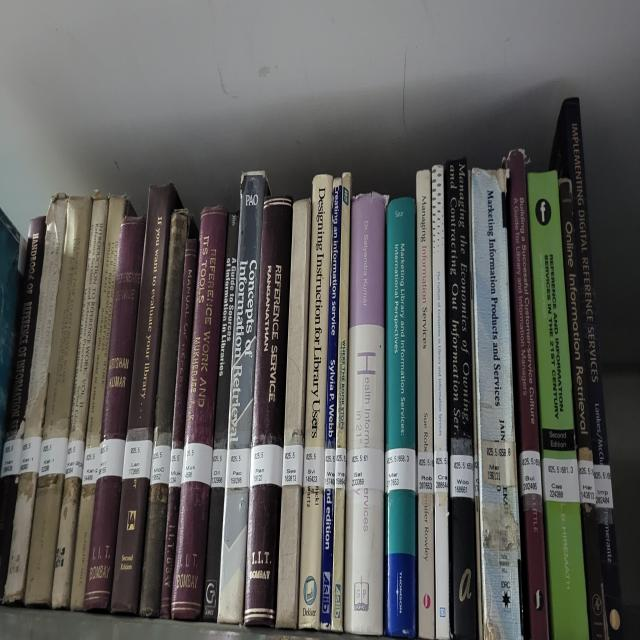Book: (550, 97, 622, 639), (111, 184, 180, 614), (528, 170, 589, 639), (25, 198, 92, 606), (70, 198, 134, 609), (4, 195, 68, 603), (84, 216, 146, 609), (51, 192, 109, 609), (471, 168, 522, 639), (171, 208, 228, 620), (218, 170, 269, 622), (559, 179, 609, 639), (140, 208, 195, 617), (505, 149, 549, 639), (338, 195, 386, 636), (244, 198, 292, 628), (0, 216, 46, 601), (444, 160, 478, 639), (202, 211, 239, 622), (299, 173, 332, 630), (276, 198, 311, 628), (160, 238, 198, 617), (385, 198, 416, 639), (320, 179, 341, 630), (331, 173, 351, 630), (431, 165, 450, 639), (416, 170, 435, 639), (242, 411, 244, 414)
Label: (542, 457, 580, 503), (346, 449, 384, 492), (481, 441, 516, 487), (250, 444, 282, 487), (181, 444, 212, 487), (385, 449, 416, 492), (122, 441, 152, 479), (98, 438, 125, 479), (39, 438, 68, 476), (225, 446, 251, 487), (450, 455, 474, 498), (519, 449, 541, 495), (282, 444, 304, 487), (302, 446, 325, 487), (0, 438, 22, 479), (150, 446, 171, 484), (594, 465, 612, 509), (20, 436, 41, 473), (578, 460, 596, 503), (65, 441, 85, 479), (82, 446, 99, 484), (434, 449, 449, 492), (418, 452, 434, 492), (169, 449, 184, 487), (211, 449, 226, 487), (324, 446, 335, 490), (335, 446, 346, 490)
